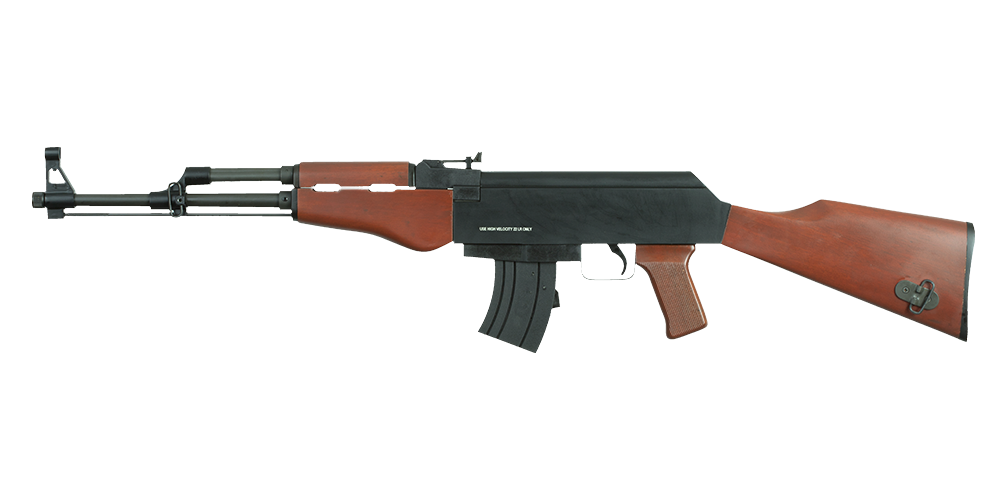Gun: (38, 157, 738, 322)
